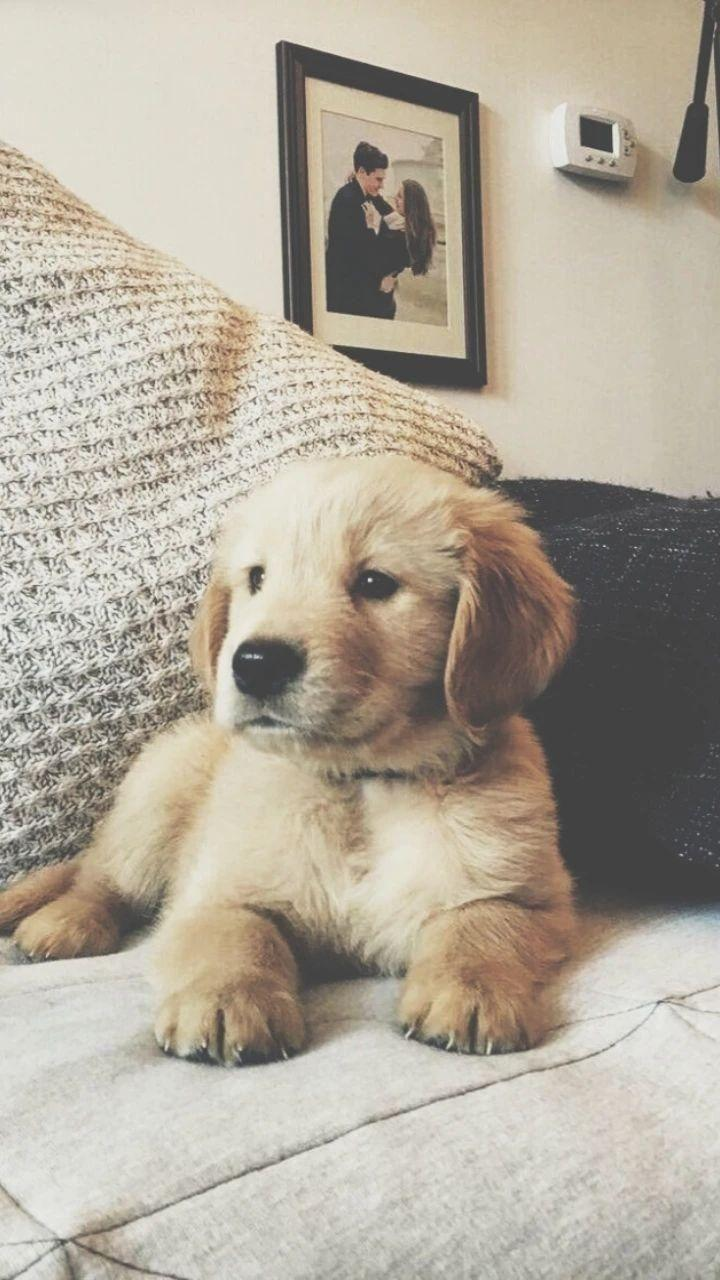puppy-dog: (0, 455, 614, 1068)
